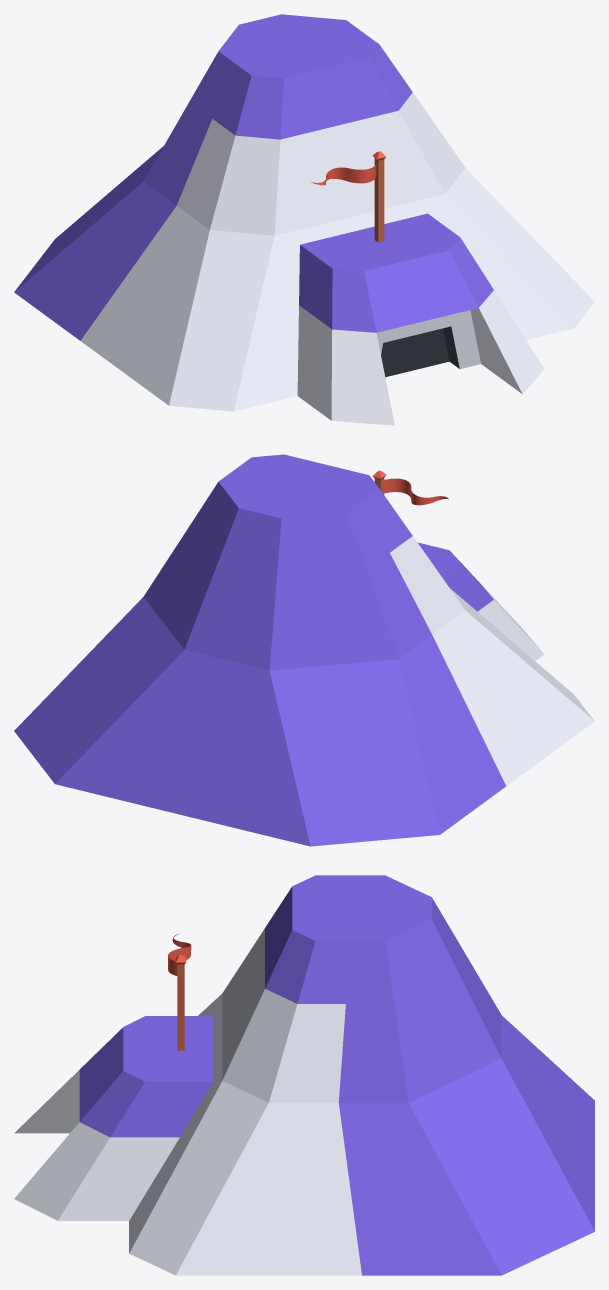
Rendered from Zelt2.fbx.
3 renders of one model, top to bottom at view 1: azimuth 30°, elevation 25°; view 2: azimuth 150°, elevation 25°; view 3: azimuth 270°, elevation 25°, orthographic. The views are drawn at different scales.
Parts seen in each view (by area): view 1: hull_frontPoint, hull_topIntake, detail_flag; view 2: hull_frontPoint, hull_topIntake, detail_flag; view 3: hull_frontPoint, hull_topIntake, detail_flag.
Part boxes in pixels (x1,y1,x2,y2): hull_frontPoint: [14, 14, 594, 411]; hull_topIntake: [297, 213, 544, 425]; detail_flag: [310, 151, 385, 242]; hull_frontPoint: [14, 454, 594, 846]; hull_topIntake: [418, 542, 544, 660]; detail_flag: [372, 470, 448, 505]; hull_frontPoint: [129, 875, 594, 1275]; hull_topIntake: [14, 1016, 213, 1220]; detail_flag: [168, 933, 191, 1050].
Size of the model in its own units: 20 by 11 by 22.45.
